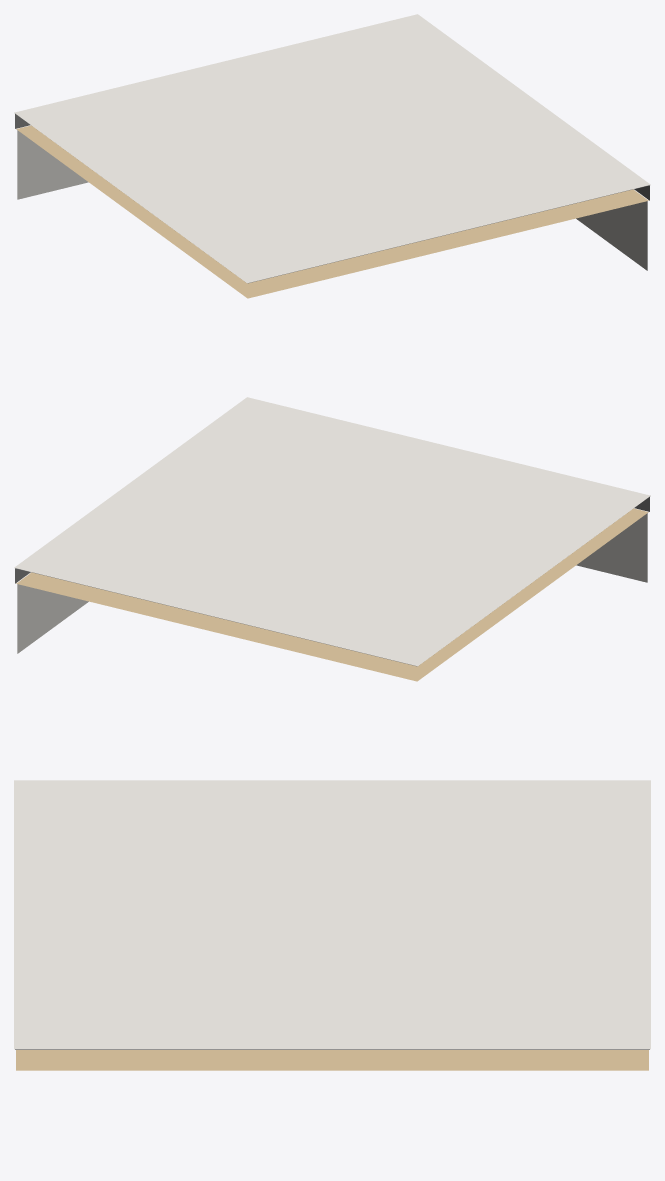
File: rubber.glb
3 renders of one model, top to bottom at view 1: azimuth 30°, elevation 25°; view 2: azimuth 150°, elevation 25°; view 3: azimuth 270°, elevation 25°, orthographic. The views are drawn at different scales.
Parts seen in each view (by area): view 1: topcoat, primer, substrate, body; view 2: topcoat, primer, substrate, body; view 3: topcoat, primer, body.
Boxes of the visible parts, x1,y1,x2,y2 form: topcoat: (14, 14, 650, 283); primer: (16, 125, 648, 298); substrate: (17, 130, 647, 270); body: (15, 113, 649, 283); topcoat: (14, 397, 650, 666); primer: (16, 508, 648, 681); substrate: (17, 513, 647, 653); body: (15, 496, 649, 666); topcoat: (14, 780, 650, 1049); primer: (16, 1050, 648, 1070); body: (15, 1049, 649, 1049).
Bounding box in the file's own units: 0.3 × 0.0617 × 0.3.
